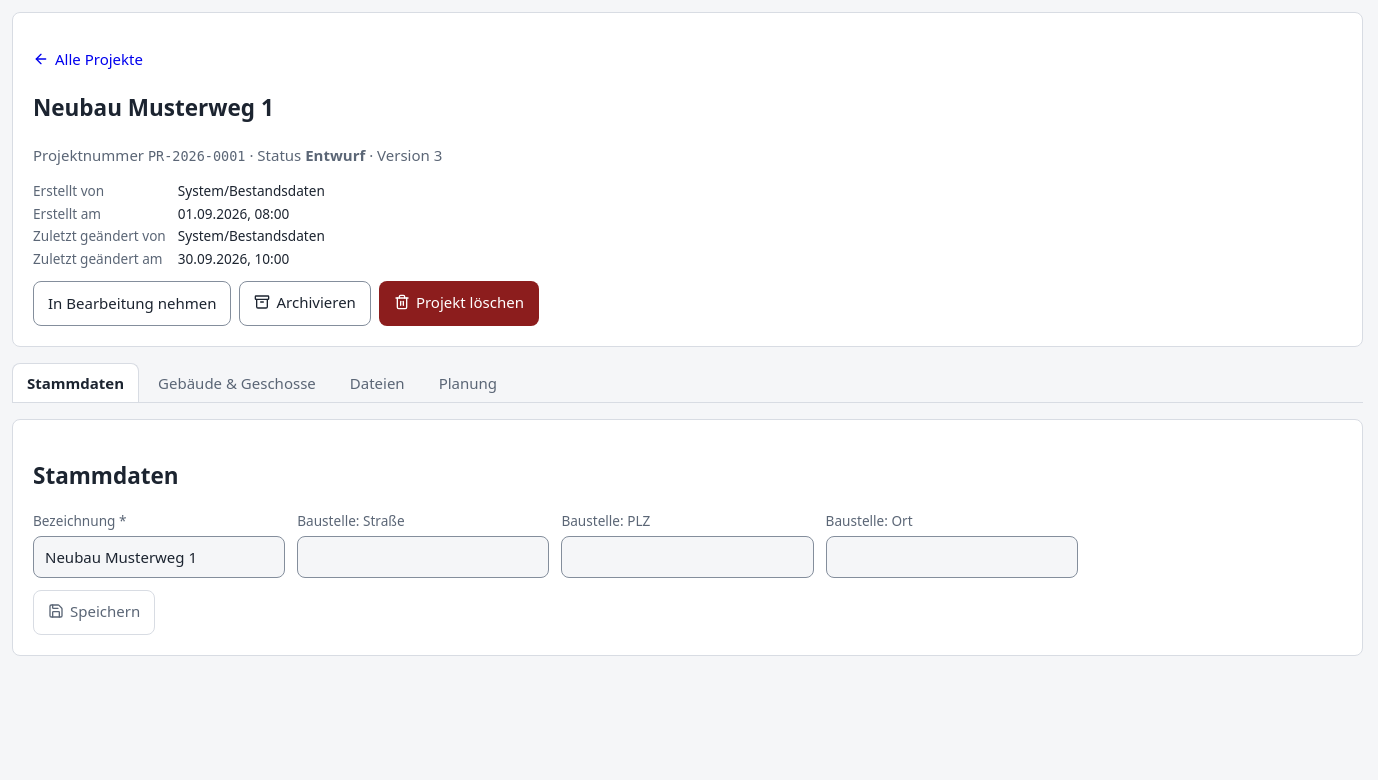
Projektkopf im Arbeitsbereich › ist ohne Arbeitsbereich die bisherige Karte und wird mit Planungsfläche einzeilig
Expected: the heading "Neubau Musterweg 1" is shown, [33,92,274,123]
Expected: the text "Projektnummer PR-2026-0001 · Status Entwurf · Version 3" is shown, [33,145,442,165]
Click the button "Planung" at (468, 382), box [424,363,512,402]
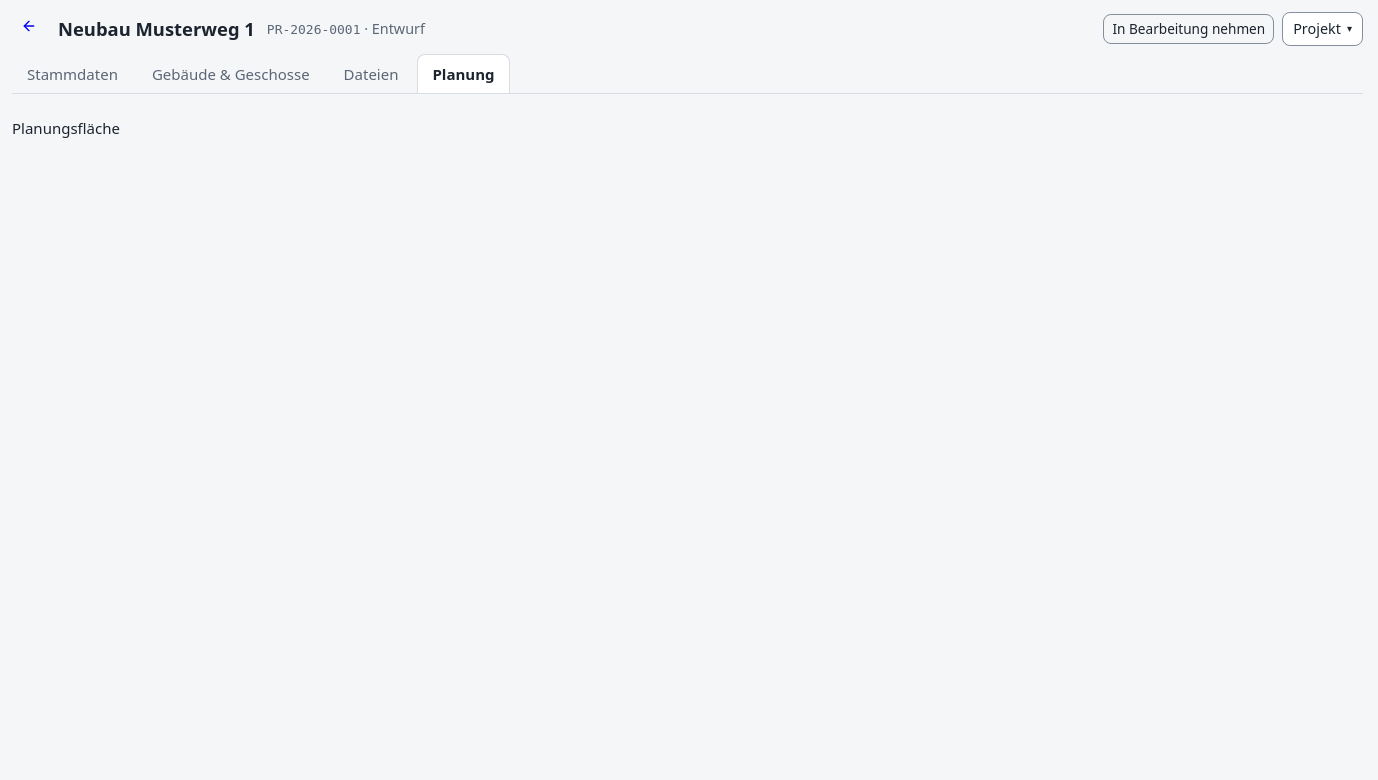
Expected: the heading "Neubau Musterweg 1" is shown, [58,15,255,43]
Result: the element with test id "projektkopf-kompakt" shows "PR-2026-0001 · Entwurf" at [12,12,1363,46]
Result: the text "Version 3" is gone
Click the button with aria-label "Weitere Projektaktionen" at (1323, 29), box [1282,12,1363,46]
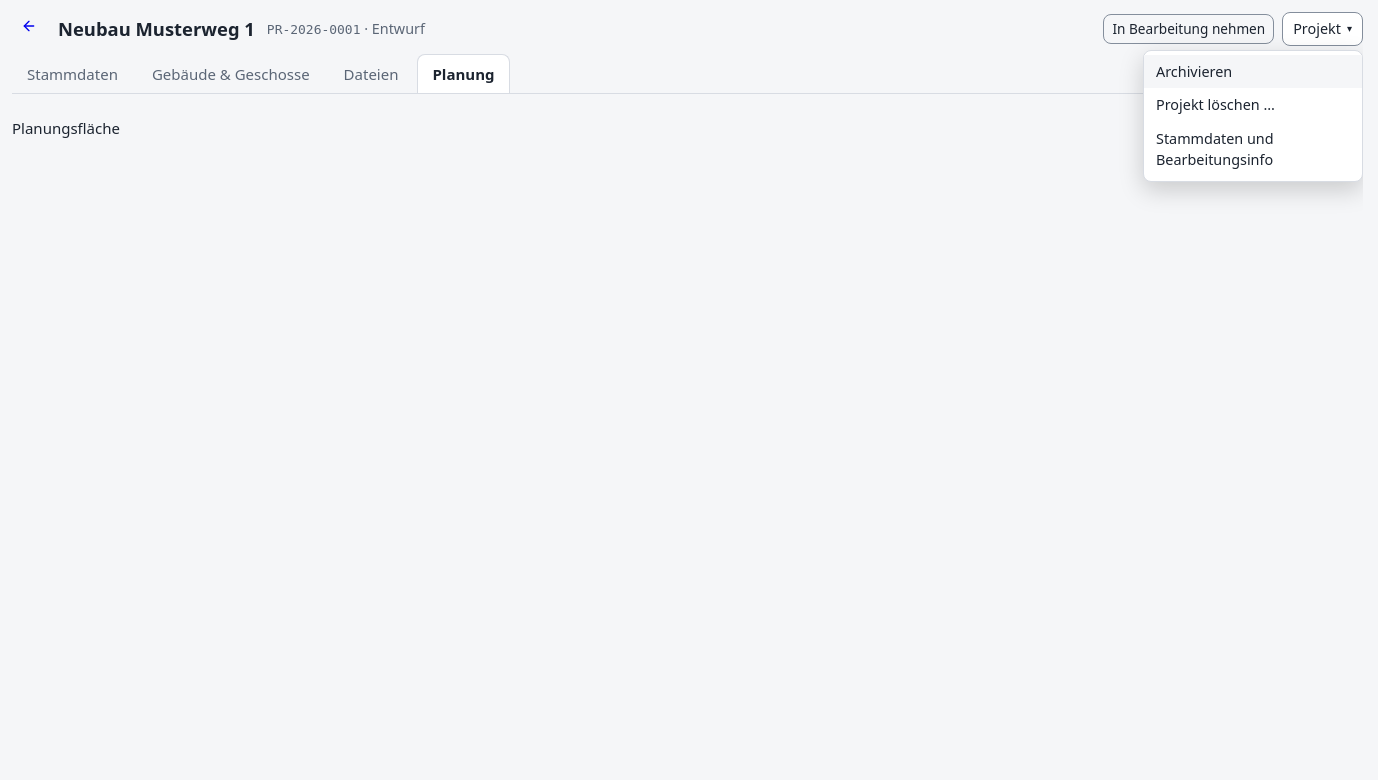
Result: the menu item "Archivieren" is shown at [1144,55,1362,88]
Result: the menu item "Projekt löschen …" is shown at [1144,88,1362,122]
Note: Details führen in die vorhandene Verwaltungsansicht – dort ist der Kopf wieder vollständig.
Click the menu item "Stammdaten und Bearbeitungsinfo" at (1253, 149), box [1144,122,1362,177]
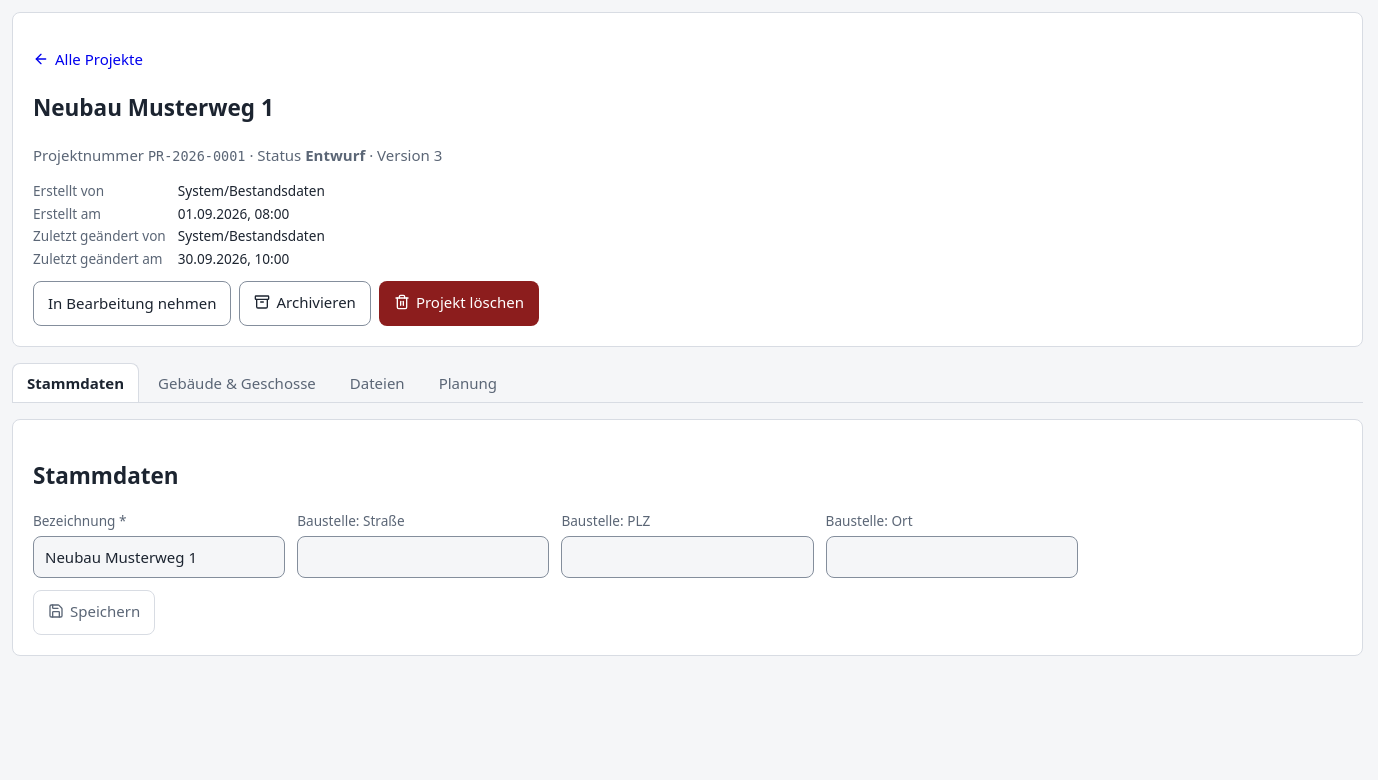
Result: the text "Projektnummer PR-2026-0001 · Status Entwurf · Version 3" is shown at [33,145,442,165]
